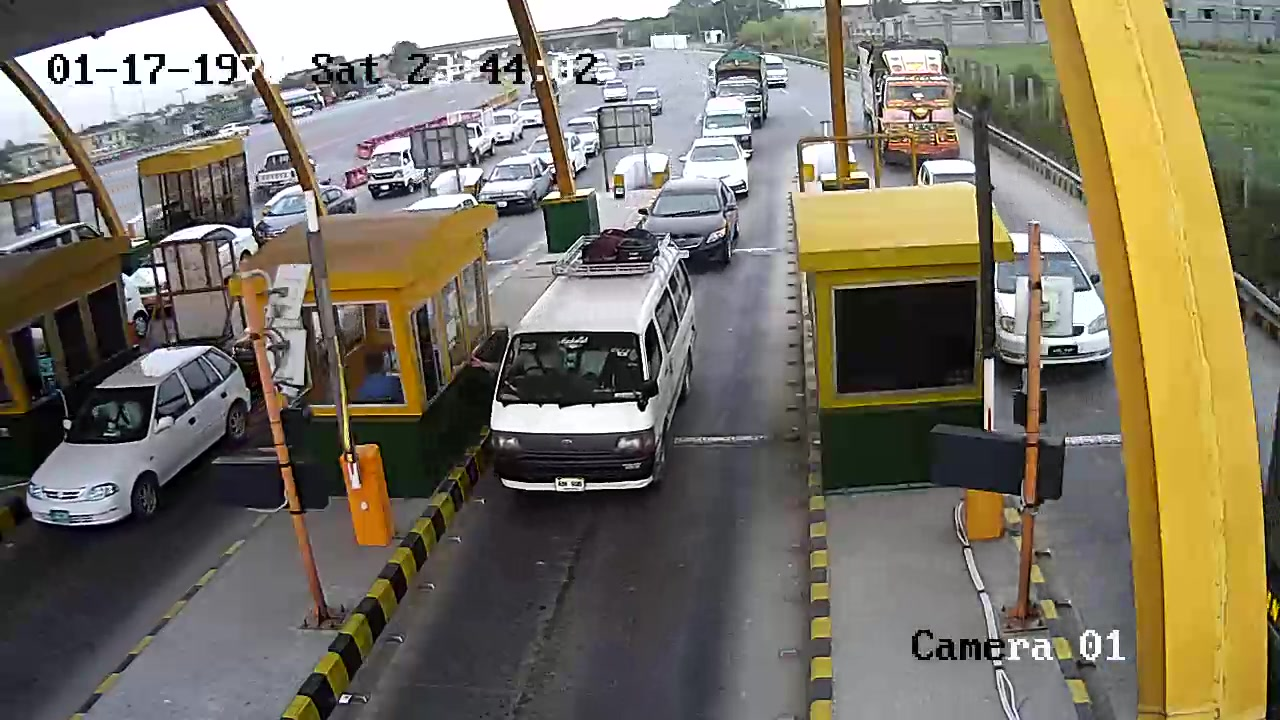F3: (482, 223, 704, 518)
